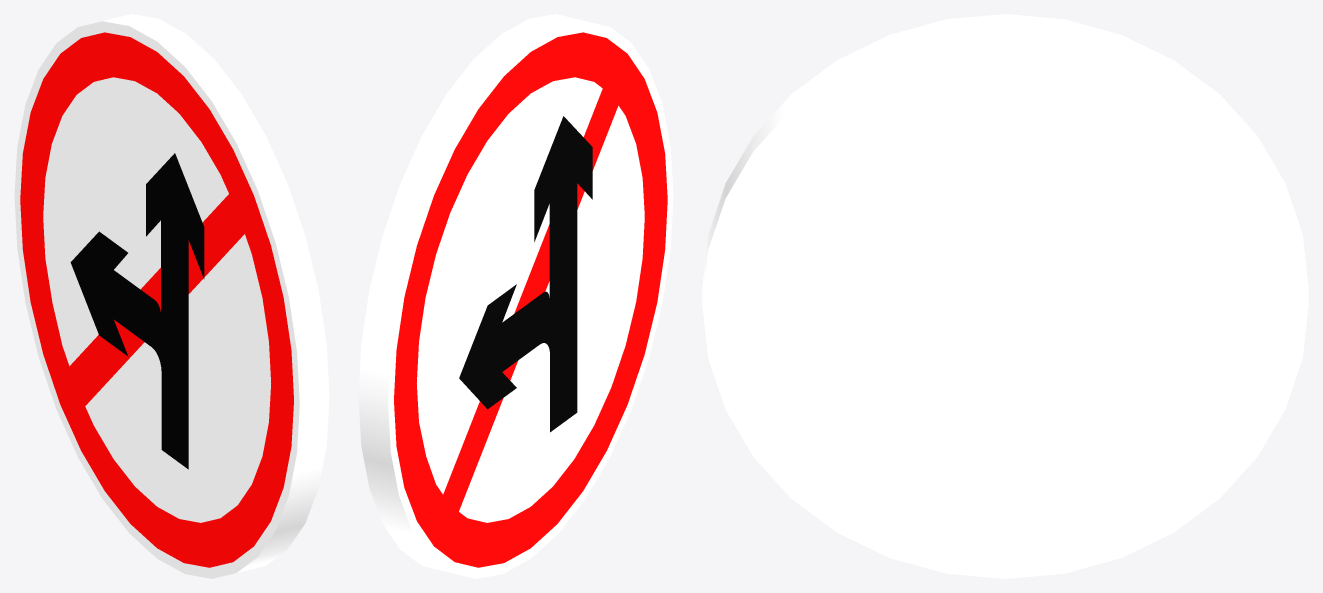
Rendered from No_Straight_Left_Turn.glb.
The picture shows the model from 3 angles, left to right: view 1: azimuth 30°, elevation 25°; view 2: azimuth 150°, elevation 25°; view 3: azimuth 270°, elevation 25°; orthographic projection. The views are drawn at different scales.
Parts seen in each view (by area): view 1: No_Straight_Left_Turn; view 2: No_Straight_Left_Turn; view 3: No_Straight_Left_Turn.
Part boxes in pixels (x1,y1,x2,y2): No_Straight_Left_Turn: (14, 14, 329, 578); No_Straight_Left_Turn: (358, 14, 673, 578); No_Straight_Left_Turn: (702, 14, 1308, 578).
Size of the model in its own units: 0.075 by 1 by 1.
